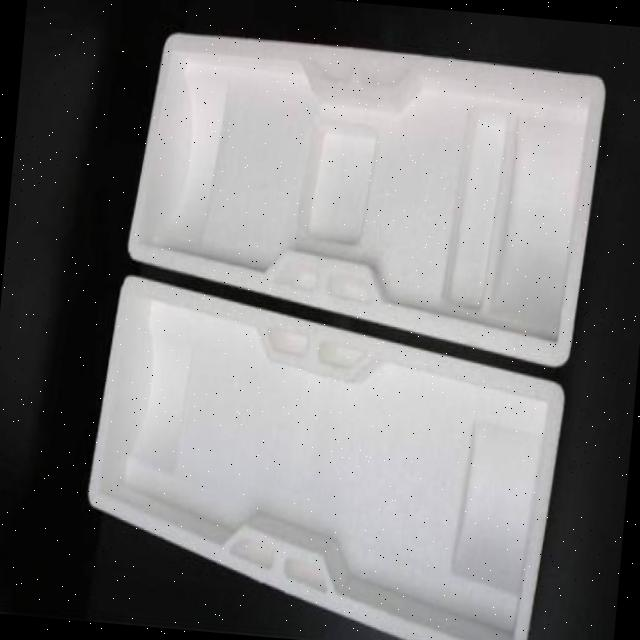styrofoam: (74, 22, 609, 640)
